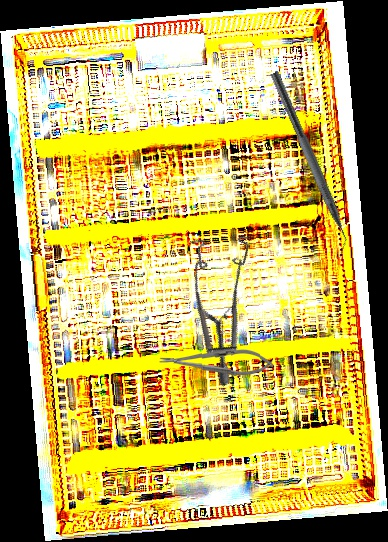Chopper: (258, 70, 358, 260)
Needle Holder: (158, 346, 275, 377)
Speculum: (151, 214, 308, 389)
